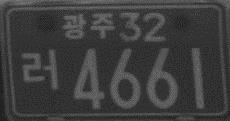1: (188, 46, 206, 112)
2: (143, 11, 167, 43)
3: (118, 11, 141, 41)
4: (74, 46, 106, 111)
6: (146, 43, 179, 111), (111, 46, 141, 110)
광주_O: (62, 11, 116, 41)
러: (22, 48, 60, 91)
